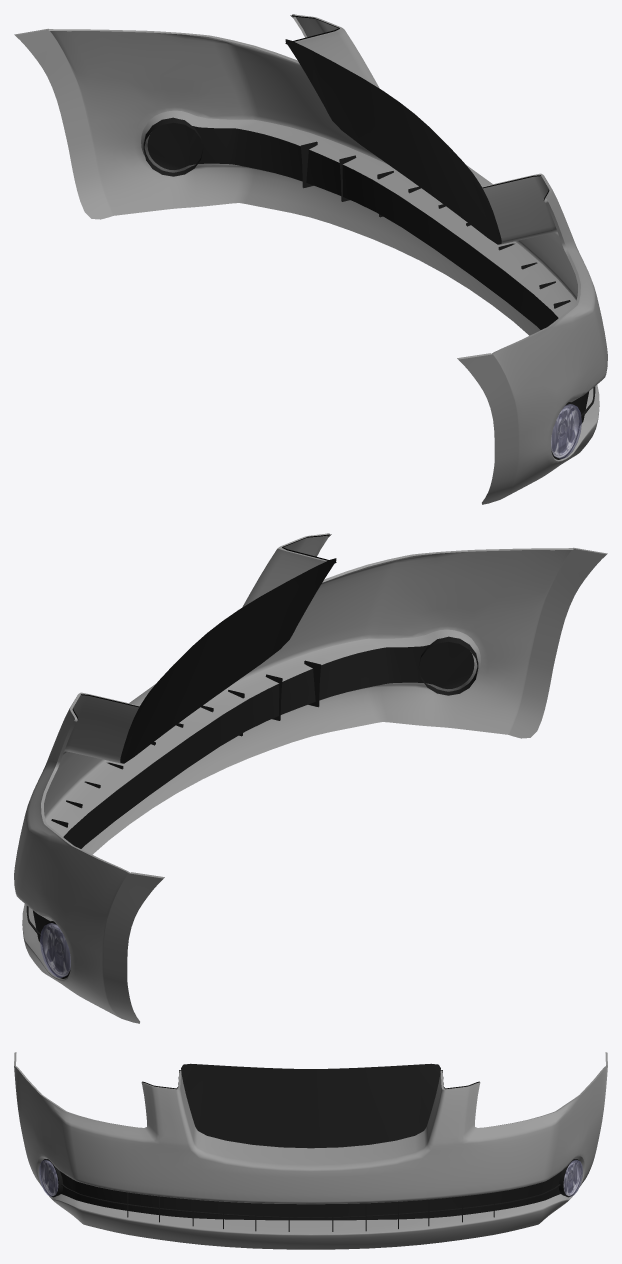
The picture shows the model from 3 angles, top to bottom: view 1: azimuth 30°, elevation 25°; view 2: azimuth 150°, elevation 25°; view 3: azimuth 270°, elevation 25°; orthographic projection. The views are drawn at different scales.
Visible parts, largest first — view 1: Z166_021G_C_Z166_021G_C_6_DaS, Z166_021G_C_Z166_021G_C_4_D, Z166_021G_C_Z166_021G_C_6_DaS_E, Z166_021G_C_Z166_021G_C_3_D, Z166_021G_C_Z166_021G_C_5_DTaSI, Z166_021G_C_Z166_021G_C_2_N; view 2: Z166_021G_C_Z166_021G_C_6_DaS, Z166_021G_C_Z166_021G_C_4_D, Z166_021G_C_Z166_021G_C_6_DaS_E, Z166_021G_C_Z166_021G_C_3_D, Z166_021G_C_Z166_021G_C_7_DTaSI, Z166_021G_C_1_N_Z166_021G_C; view 3: Z166_021G_C_Z166_021G_C_6_DaS, Z166_021G_C_Z166_021G_C_4_D, Z166_021G_C_Z166_021G_C_6_DaS_E, Z166_021G_C_Z166_021G_C_3_D, Z166_021G_C_Z166_021G_C_5_DTaSI, Z166_021G_C_Z166_021G_C_7_DTaSI, Z166_021G_C_1_N_Z166_021G_C, Z166_021G_C_Z166_021G_C_2_N.
Boxes of the visible parts, left/top/right/bottom form: Z166_021G_C_Z166_021G_C_6_DaS: left=15, top=16, right=607, bottom=504; Z166_021G_C_Z166_021G_C_4_D: left=147, top=39, right=588, bottom=425; Z166_021G_C_Z166_021G_C_6_DaS_E: left=14, top=14, right=599, bottom=460; Z166_021G_C_Z166_021G_C_3_D: left=143, top=117, right=595, bottom=459; Z166_021G_C_Z166_021G_C_5_DTaSI: left=551, top=404, right=581, bottom=458; Z166_021G_C_Z166_021G_C_2_N: left=551, top=404, right=579, bottom=458; Z166_021G_C_Z166_021G_C_6_DaS: left=14, top=535, right=606, bottom=1023; Z166_021G_C_Z166_021G_C_4_D: left=33, top=558, right=474, bottom=944; Z166_021G_C_Z166_021G_C_6_DaS_E: left=22, top=533, right=607, bottom=979; Z166_021G_C_Z166_021G_C_3_D: left=26, top=636, right=478, bottom=978; Z166_021G_C_Z166_021G_C_7_DTaSI: left=40, top=923, right=70, bottom=977; Z166_021G_C_1_N_Z166_021G_C: left=42, top=923, right=70, bottom=977; Z166_021G_C_Z166_021G_C_6_DaS: left=14, top=1066, right=607, bottom=1249; Z166_021G_C_Z166_021G_C_4_D: left=60, top=1063, right=561, bottom=1220; Z166_021G_C_Z166_021G_C_6_DaS_E: left=14, top=1052, right=607, bottom=1233; Z166_021G_C_Z166_021G_C_3_D: left=41, top=1159, right=580, bottom=1231; Z166_021G_C_Z166_021G_C_5_DTaSI: left=39, top=1160, right=58, bottom=1196; Z166_021G_C_Z166_021G_C_7_DTaSI: left=563, top=1160, right=582, bottom=1196; Z166_021G_C_1_N_Z166_021G_C: left=563, top=1160, right=580, bottom=1195; Z166_021G_C_Z166_021G_C_2_N: left=41, top=1160, right=58, bottom=1195.
Size of the model in its own units: 76.91 by 63.76 by 220.
